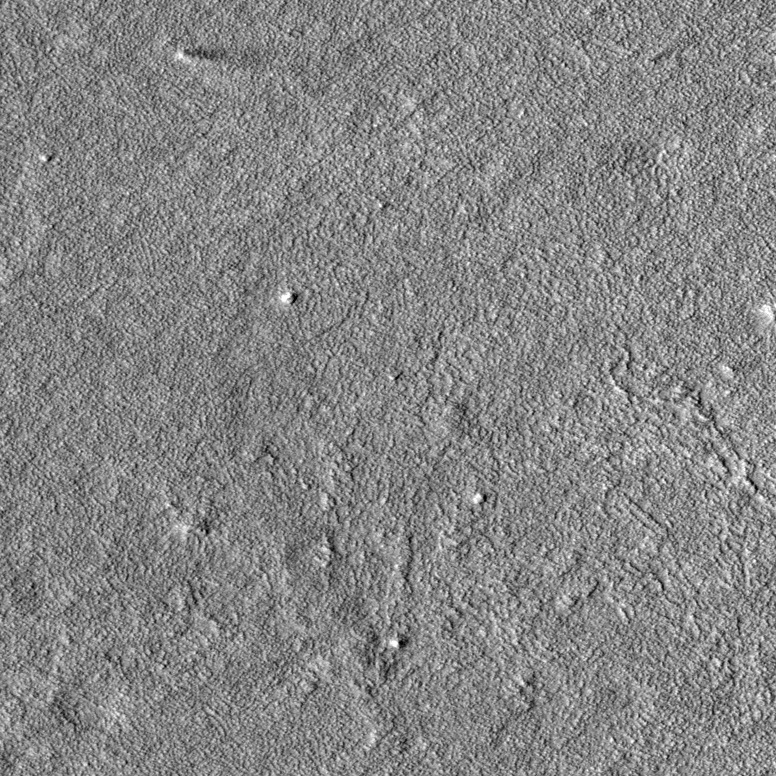dust_devil: (174, 48, 225, 66)
